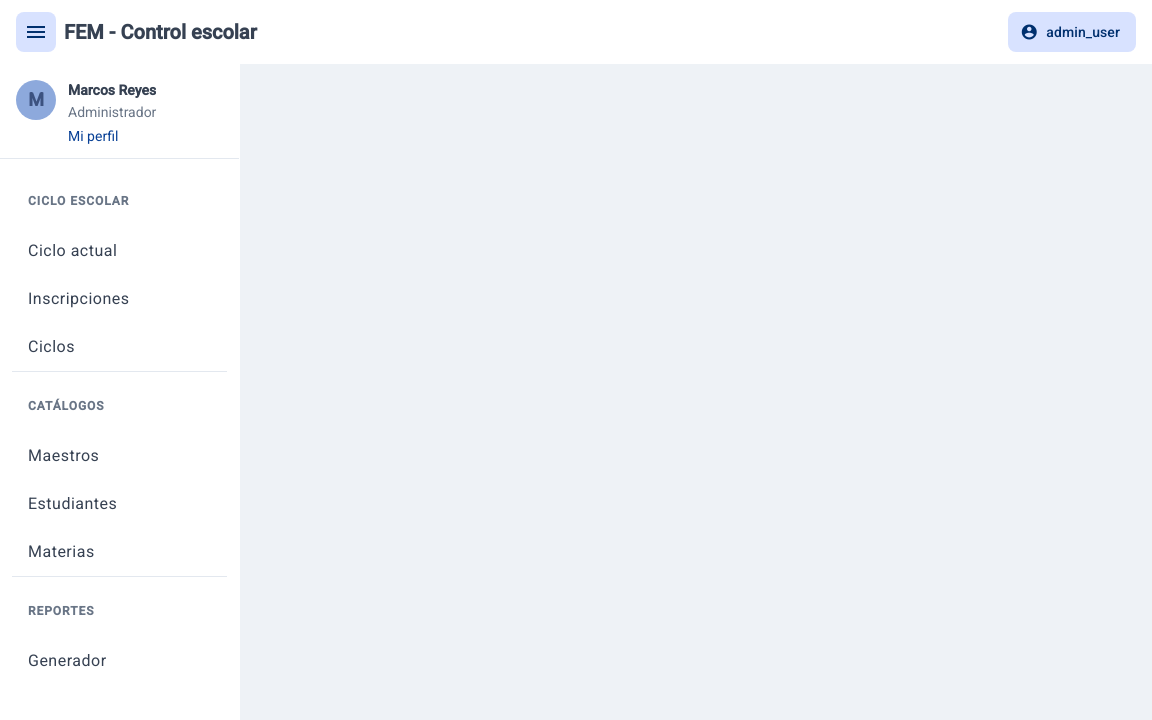
Test: ShellComponent › Logout flow (FEM-15) › 3.5 Salir button exposes aria-label="Cerrar sesión" in the DOM
Click the button "admin_user" at (1072, 32), box [1008,12,1136,52]
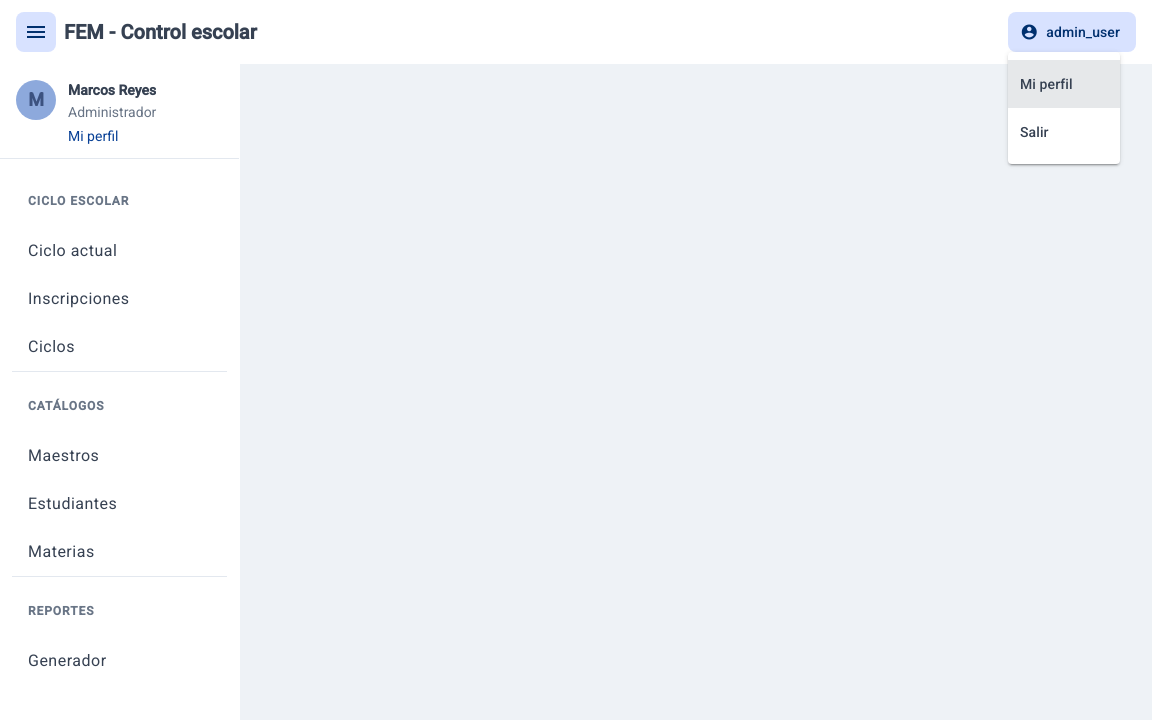
Result: the menu item "Salir" is shown at [1008,108,1120,156]
